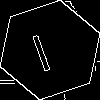I: (25, 25, 55, 73)
